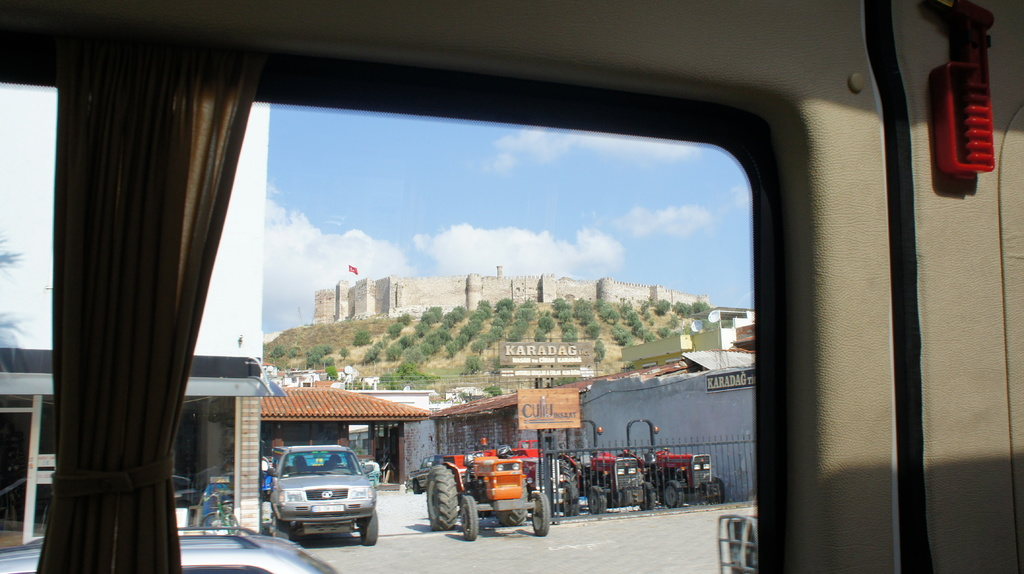mobil: (272, 445, 380, 545)
